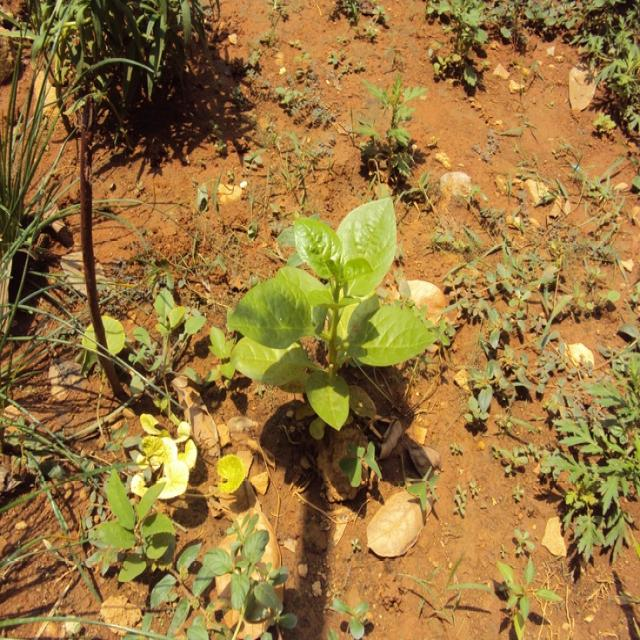Medicinal-Basale: (218, 195, 447, 438)
